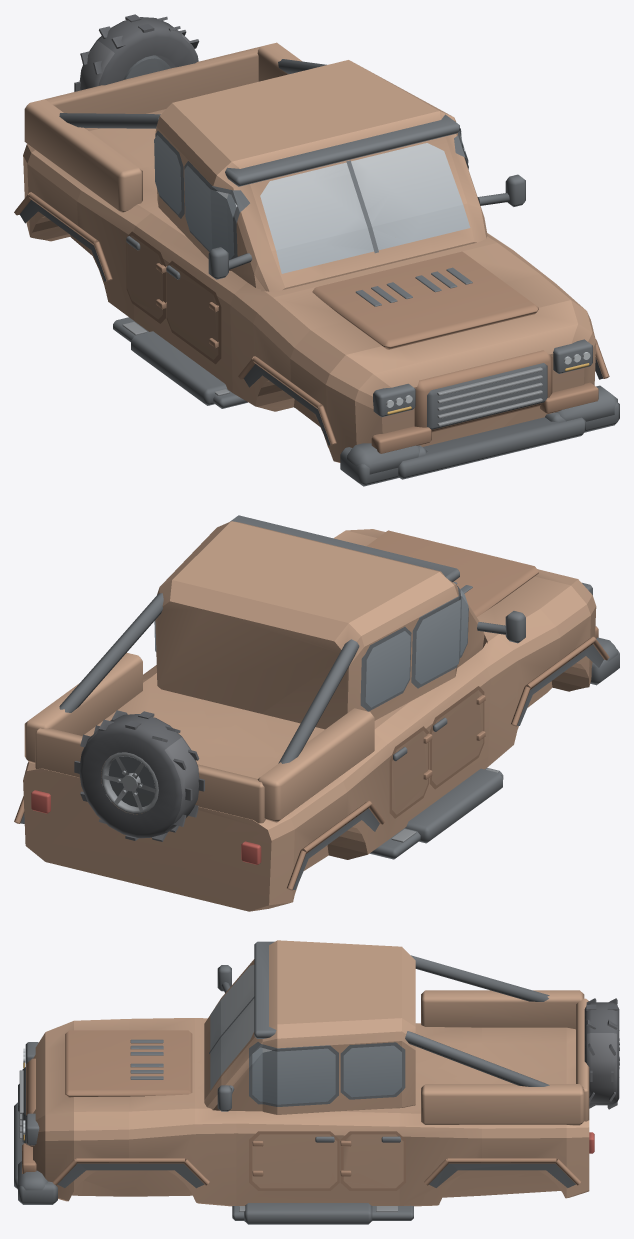
The model's file is body.glb.
3 views of the same model, one above another, from view 1: azimuth 30°, elevation 25°; view 2: azimuth 150°, elevation 25°; view 3: azimuth 270°, elevation 25° (orthographic). The views are drawn at different scales.
Parts seen in each view (by area): view 1: pickup; view 2: pickup; view 3: pickup.
Part boxes in pixels (left/top/right/bottom): pickup: left=14, top=14, right=619, bottom=486; pickup: left=14, top=515, right=619, bottom=911; pickup: left=14, top=940, right=619, bottom=1224.
Size of the model in its own units: 2.62 by 1.77 by 5.3.
